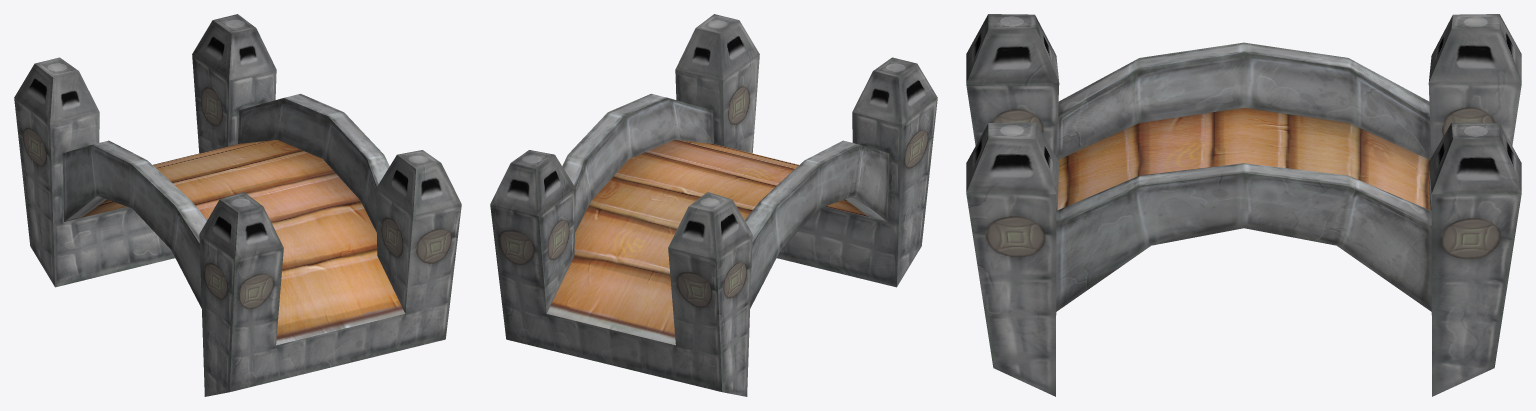
Rendered from BKS_Set3_BridgeB.fbx.
3 renders of one model, left to right at view 1: azimuth 30°, elevation 25°; view 2: azimuth 150°, elevation 25°; view 3: azimuth 270°, elevation 25°, orthographic. The views are drawn at different scales.
Visible parts, largest first — view 1: bridgeB; view 2: bridgeB; view 3: bridgeB.
Part boxes in pixels (x1,y1,x2,y2): bridgeB: (14, 14, 461, 396); bridgeB: (490, 14, 937, 396); bridgeB: (966, 14, 1521, 396).
Bounding box in the file's own units: 5.12 × 4.38 × 8.65.
